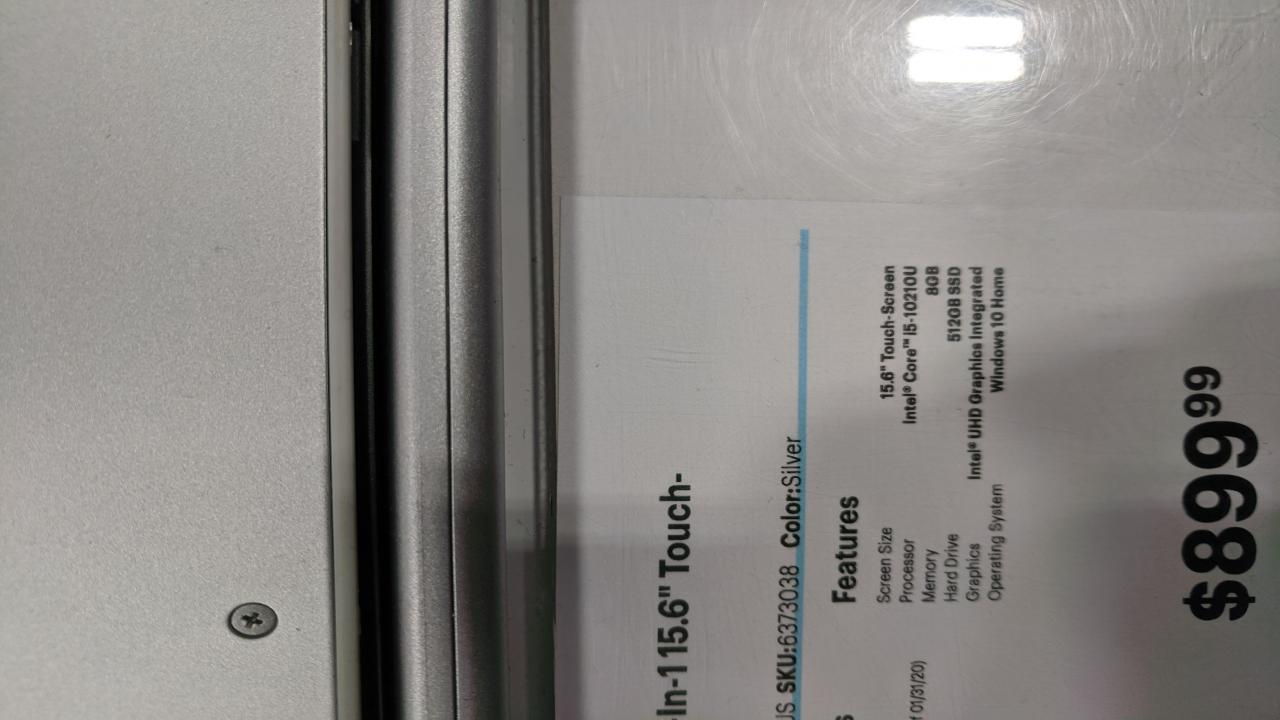CRS: (225, 601, 280, 639)
